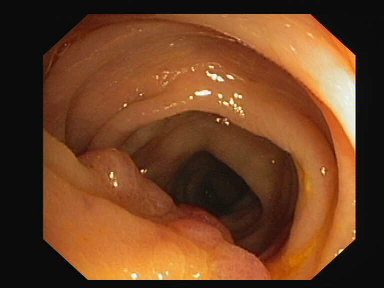polyp: (78, 148, 175, 215), (169, 220, 232, 255), (173, 204, 233, 240)
